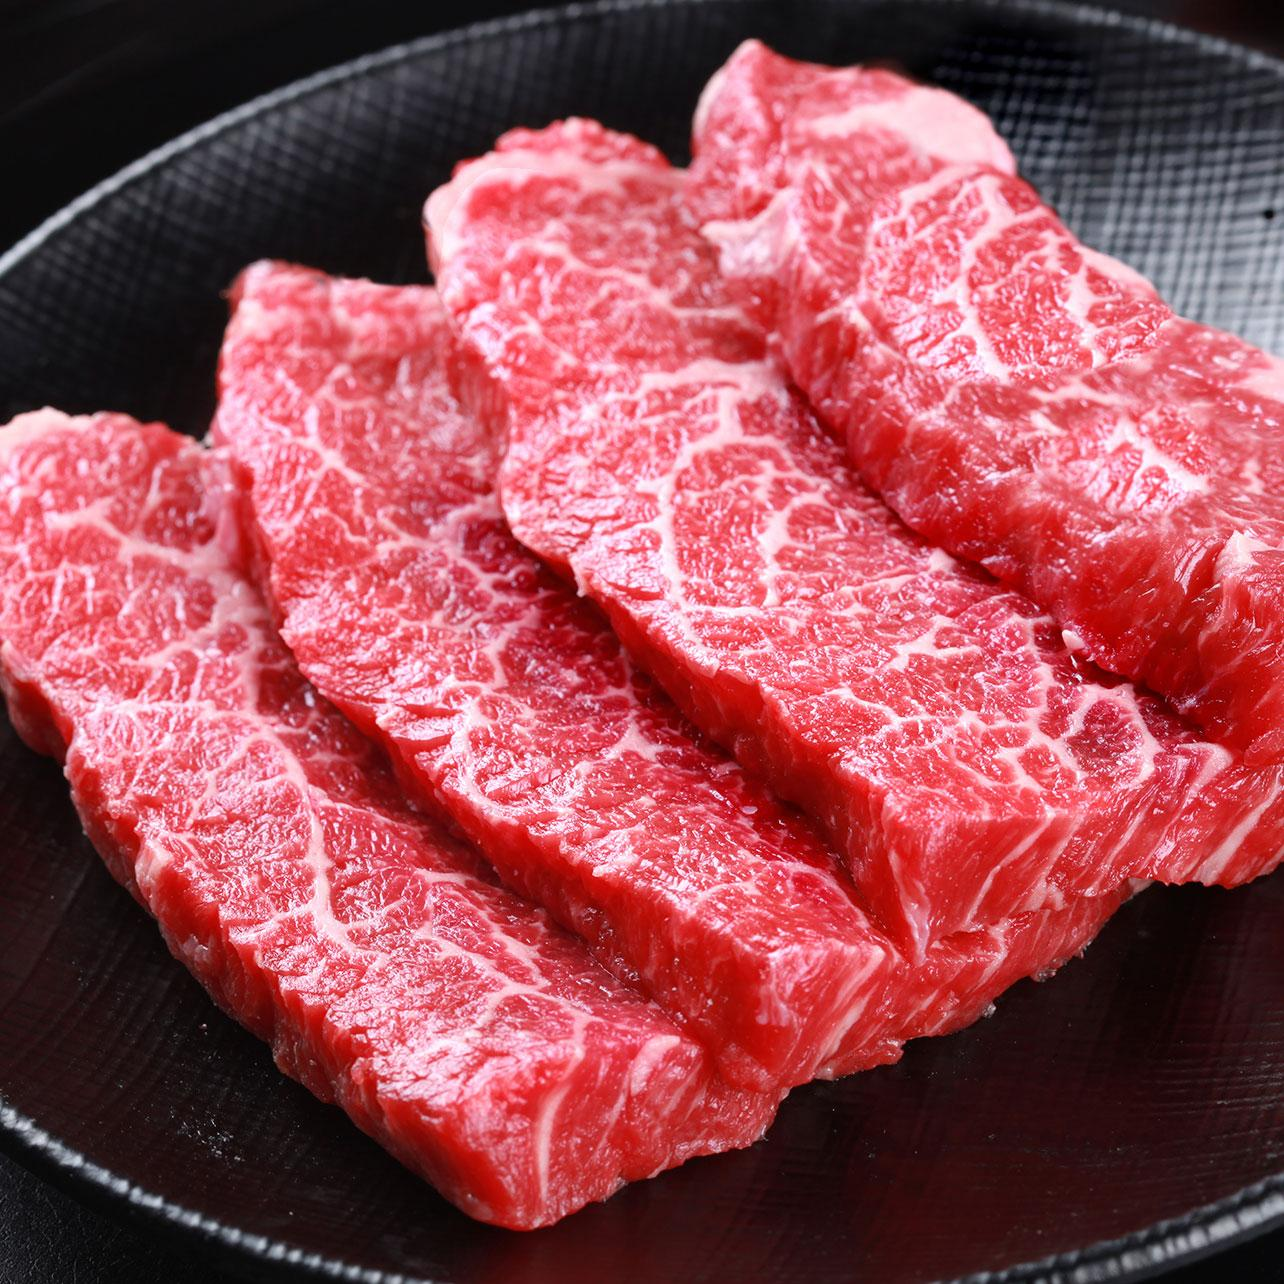beef: (372, 642, 1284, 1284), (733, 293, 1284, 1284)
